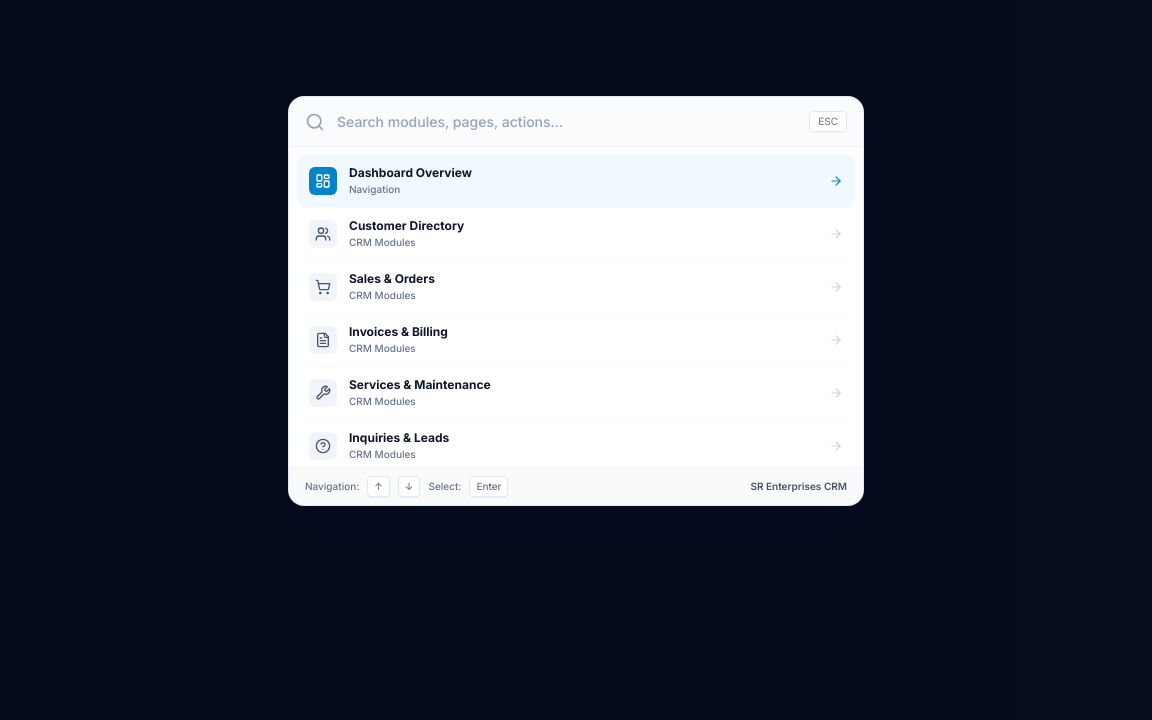
Test: Phase 3 & Phase 25 — UI Design System & Global Search: CommandPalette Component › should filter items based on user query
The width and height of the screenshot is (1152, 720).
In the field with placeholder "Search modules, pages, actions...": (567, 122) 337,112 -> 797,132, type "Warranty"
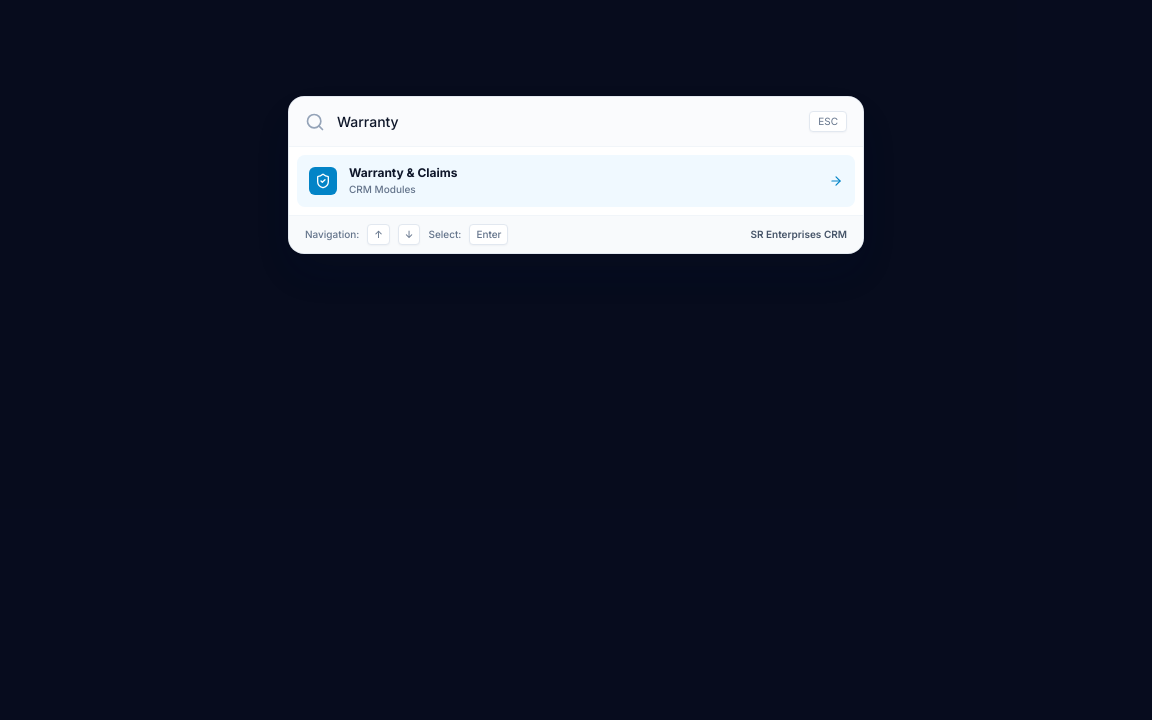
Expected: the text "Warranty & Claims" is shown, 349,165 -> 458,181
Expected: the button "Customer Directory" is gone
